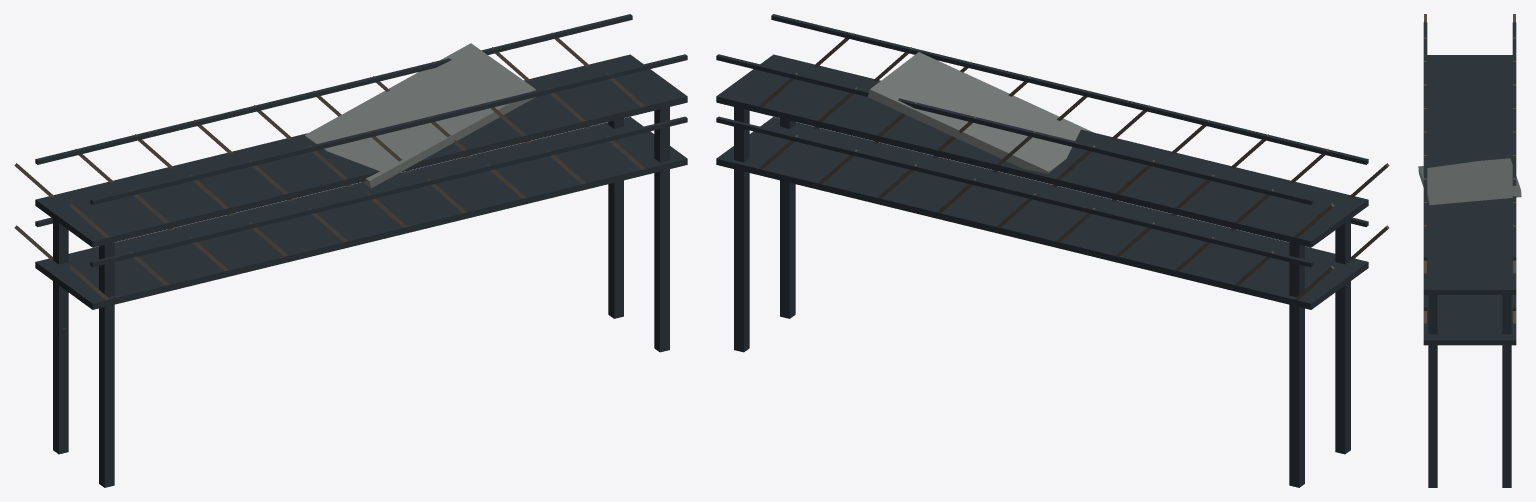
The model's file is collapsed-overpass-1.glb.
The picture shows the model from 3 angles, left to right: view 1: azimuth 30°, elevation 25°; view 2: azimuth 150°, elevation 25°; view 3: azimuth 270°, elevation 25°; orthographic projection. The views are drawn at different scales.
Parts seen in each view (by area): view 1: collapsed-overpass/0/KR-230-1; view 2: collapsed-overpass/0/KR-230-1; view 3: collapsed-overpass/0/KR-230-1.
Part boxes in pixels (x1,y1,x2,y2): collapsed-overpass/0/KR-230-1: (14, 14, 687, 487); collapsed-overpass/0/KR-230-1: (716, 14, 1389, 487); collapsed-overpass/0/KR-230-1: (1418, 14, 1521, 487).
Size of the model in its own units: 31.08 by 14.43 by 5.58.
